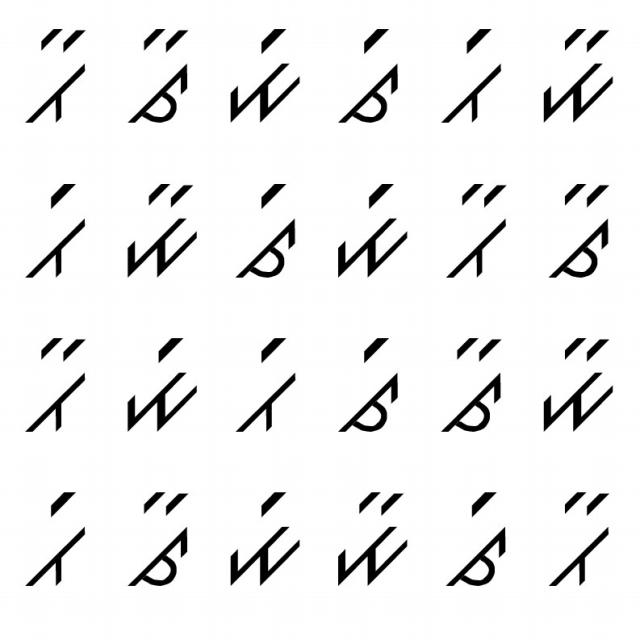ban: (544, 484, 617, 600), (19, 328, 92, 441), (441, 177, 517, 285), (17, 23, 94, 127)
bang: (11, 476, 91, 593), (228, 327, 302, 438), (26, 172, 94, 286), (438, 20, 506, 126)
can: (431, 324, 515, 438), (119, 490, 201, 599), (124, 22, 198, 130), (550, 171, 618, 286)
cang: (436, 483, 516, 595), (328, 331, 411, 437), (332, 20, 412, 128), (228, 173, 304, 285)
man: (120, 173, 210, 283), (524, 22, 618, 124), (328, 484, 414, 588), (534, 333, 622, 434)
mang: (111, 334, 200, 442), (221, 483, 307, 594), (322, 182, 408, 286), (223, 18, 305, 126)
